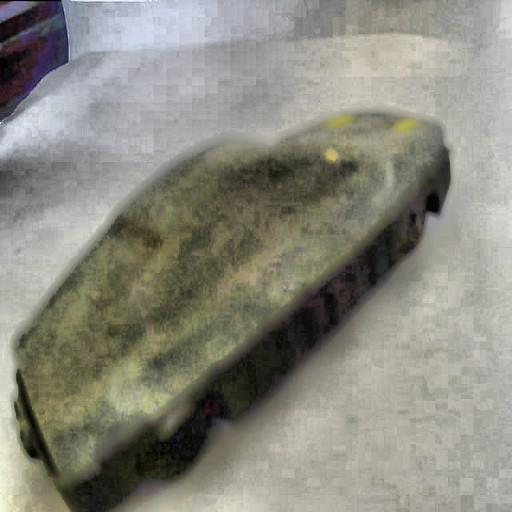normal_car: (8, 14, 460, 510)
